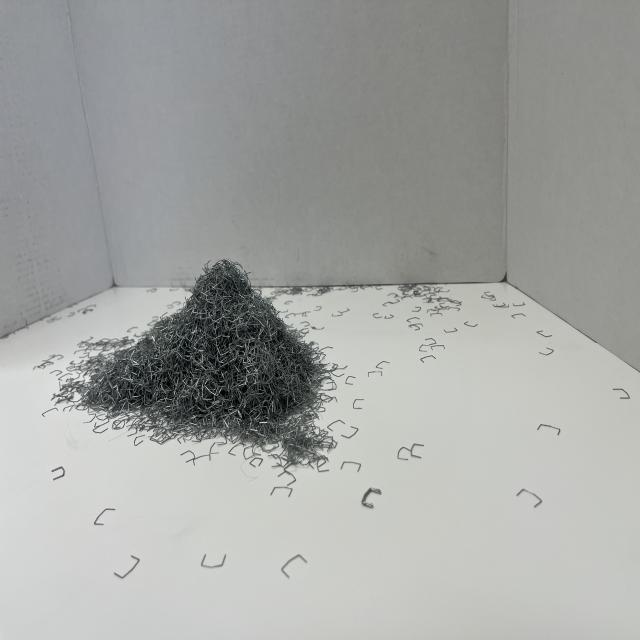staples: (47, 256, 339, 466)
